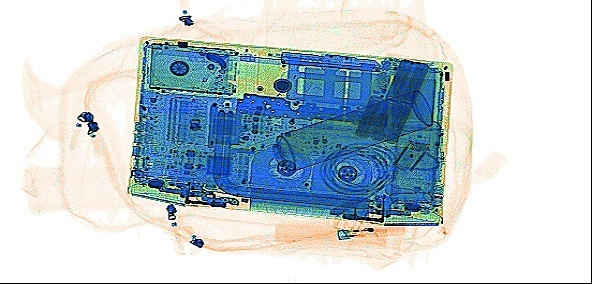lighter: (334, 222, 406, 240)
powerbank: (354, 56, 428, 142)
pressure: (270, 88, 433, 173)
